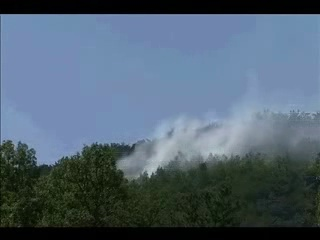smoke: (198, 75, 319, 165), (115, 115, 196, 181)
